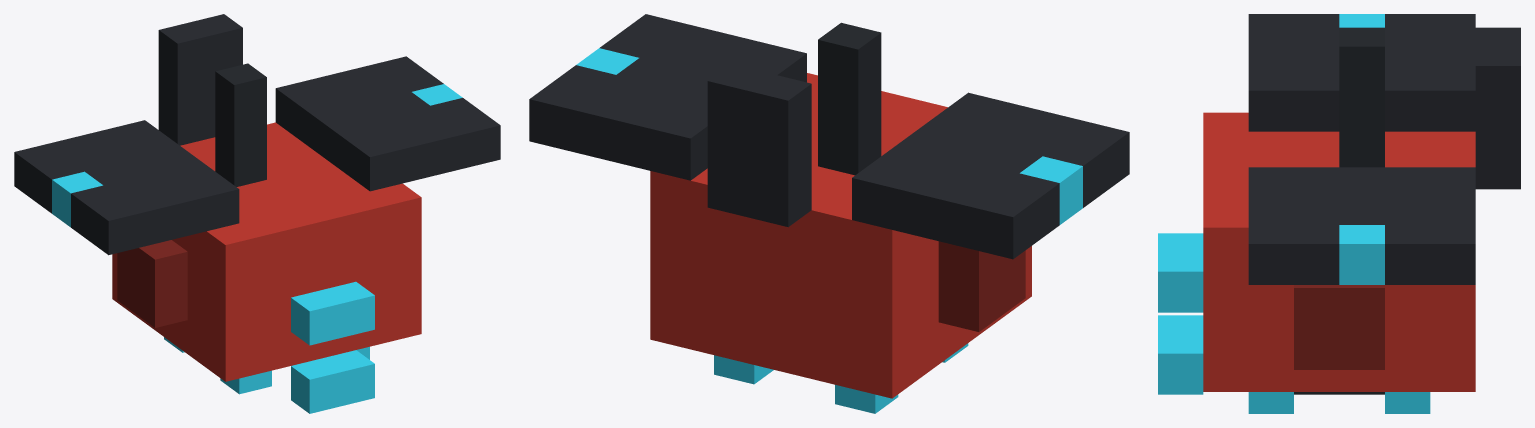
Rendered from mech_flyer.glb.
3 views of the same model, side by side, from view 1: azimuth 30°, elevation 25°; view 2: azimuth 150°, elevation 25°; view 3: azimuth 270°, elevation 25° (orthographic). The views are drawn at different scales.
Visible parts, largest first — view 1: Rotor mesh, Hull mesh, Fin mesh, Antenna mesh, Pod mesh, Eye mesh, Muzzle mesh, Thruster mesh; view 2: Rotor mesh, Hull mesh, Fin mesh, Antenna mesh, Pod mesh, Thruster mesh; view 3: Rotor mesh, Hull mesh, Pod mesh, Fin mesh, Antenna mesh, Eye mesh, Muzzle mesh, Thruster mesh.
Part boxes in pixels (x1=…): Rotor mesh: x1=14, y1=56, x2=500, y2=255; Hull mesh: x1=112, y1=122, x2=421, y2=381; Fin mesh: x1=158, y1=14, x2=242, y2=145; Antenna mesh: x1=215, y1=63, x2=266, y2=186; Pod mesh: x1=117, y1=240, x2=187, y2=327; Eye mesh: x1=291, y1=281, x2=374, y2=345; Muzzle mesh: x1=291, y1=350, x2=374, y2=413; Thruster mesh: x1=164, y1=337, x2=369, y2=394; Rotor mesh: x1=529, y1=14, x2=1129, y2=259; Hull mesh: x1=650, y1=73, x2=1031, y2=398; Fin mesh: x1=707, y1=64, x2=811, y2=227; Antenna mesh: x1=818, y1=22, x2=881, y2=175; Pod mesh: x1=938, y1=241, x2=1025, y2=331; Thruster mesh: x1=714, y1=343, x2=968, y2=413; Rotor mesh: x1=1248, y1=14, x2=1475, y2=284; Hull mesh: x1=1203, y1=112, x2=1475, y2=391; Pod mesh: x1=1294, y1=285, x2=1384, y2=369; Fin mesh: x1=1475, y1=27, x2=1520, y2=189; Antenna mesh: x1=1339, y1=27, x2=1384, y2=167; Eye mesh: x1=1158, y1=233, x2=1203, y2=312; Muzzle mesh: x1=1158, y1=315, x2=1203, y2=394; Thruster mesh: x1=1248, y1=392, x2=1430, y2=413.
Bounding box in the file's own units: 12 × 8 × 8.
1 material, 1 textured.
